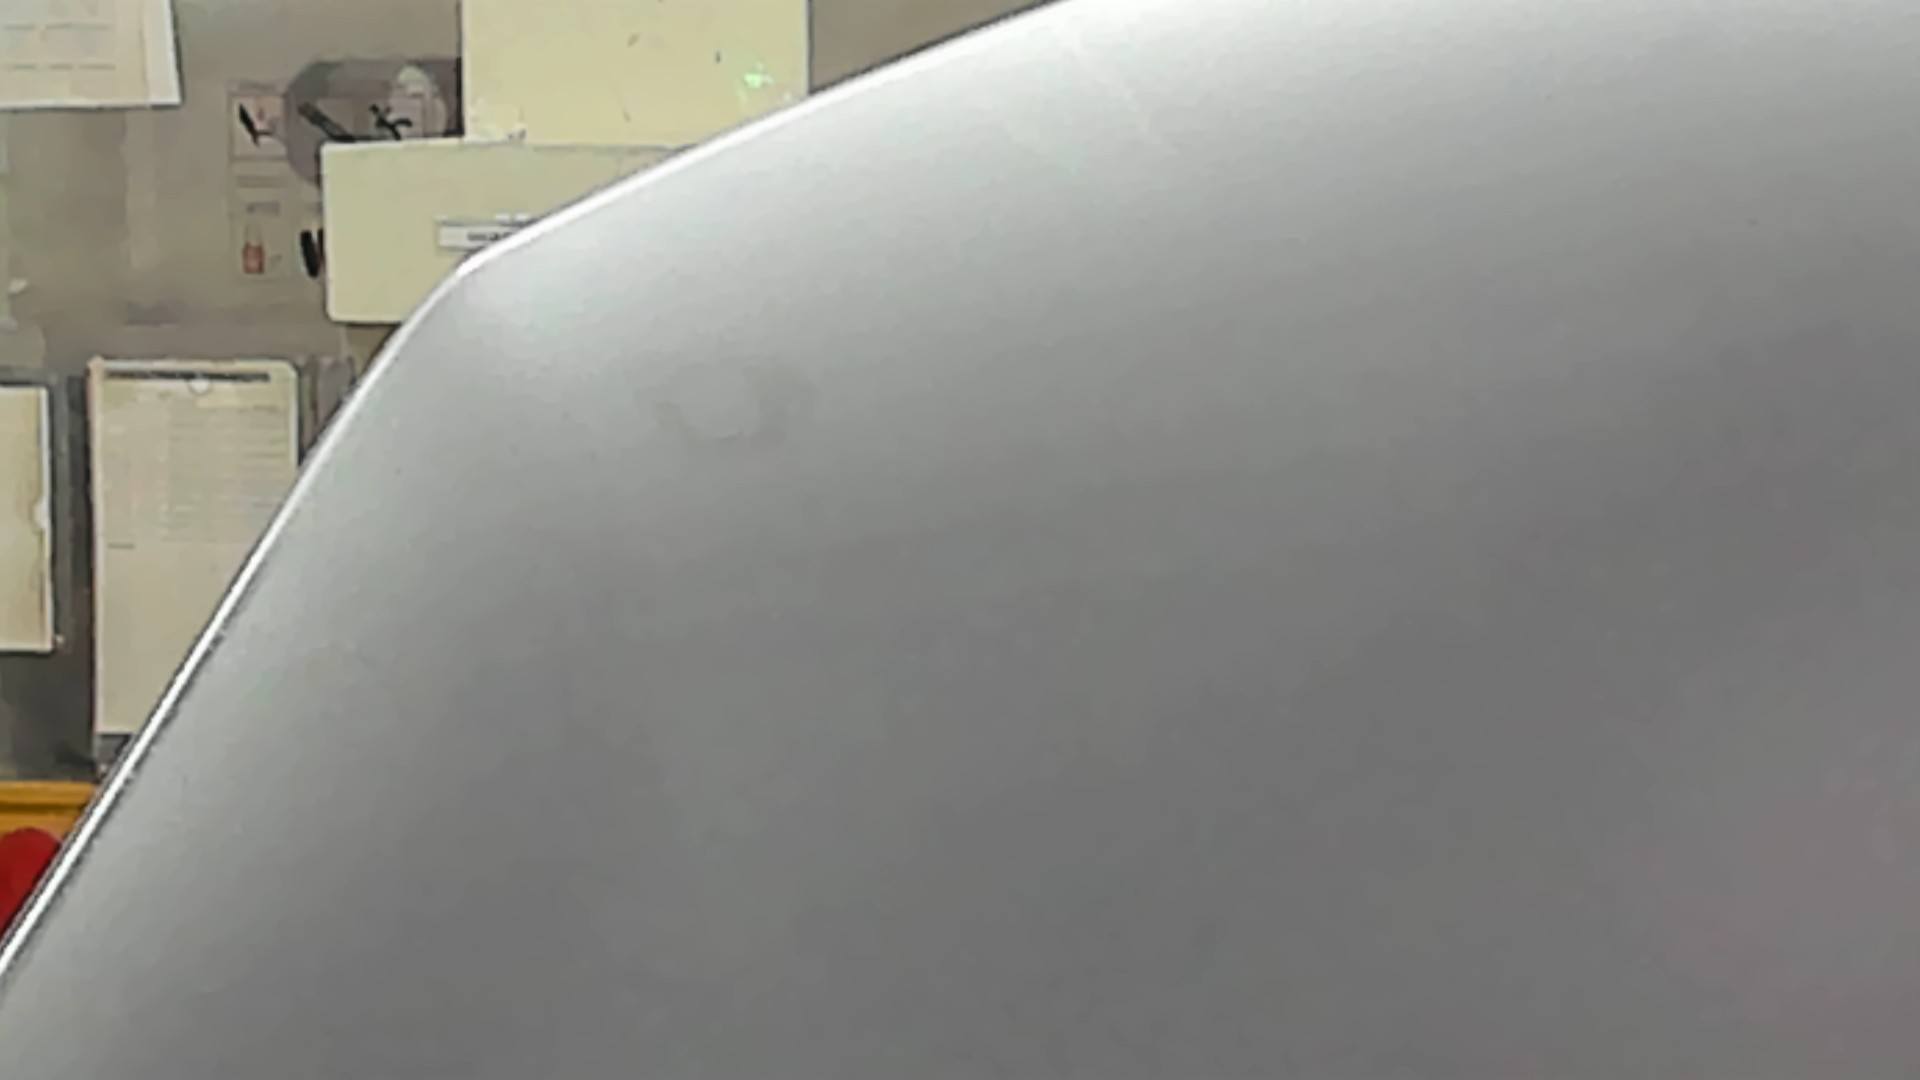capo: (609, 237, 1920, 1080)
